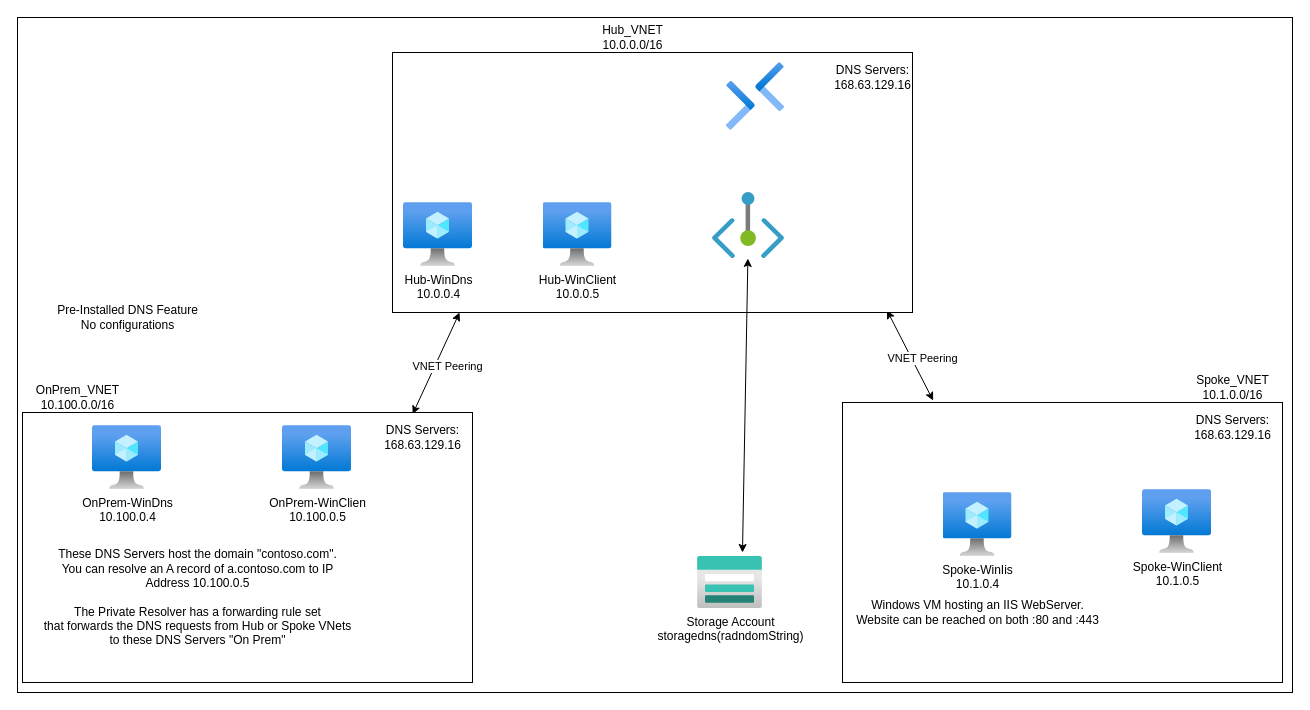
The diagram is 1310 pixels wide and 710 high, and some of its shapes have lost their labels. The centre of each missing label's shape, as x and y in pixels:
"Hub_Bastion" belongs at point 755,96.
"Private Endpoint Hub_storagedns(randomString)_blob_pe 10.0.1.4" belongs at point 748,225.
